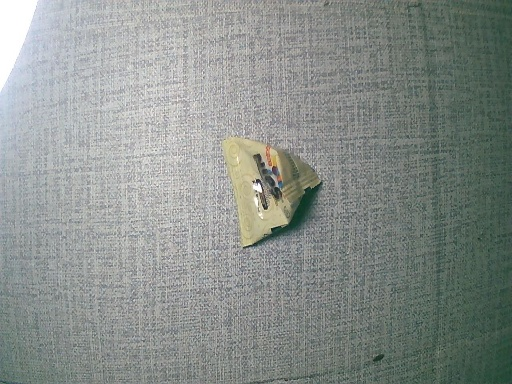plastic: (215, 126, 325, 255)
